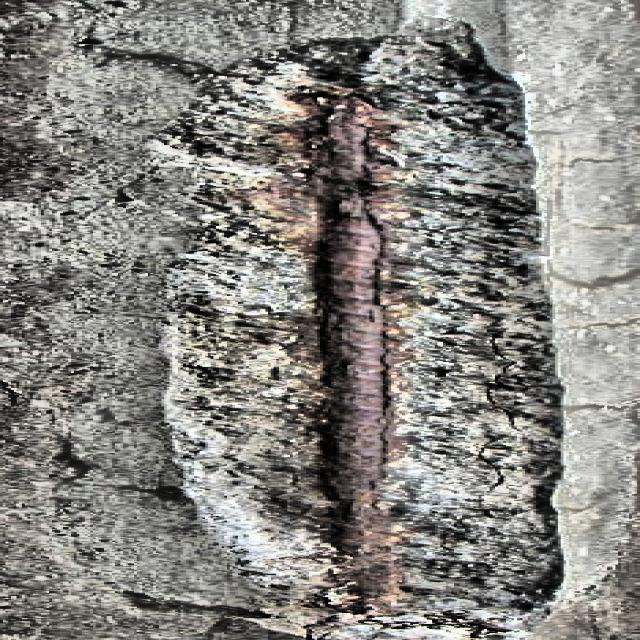D0w0: (312, 99, 388, 556)
